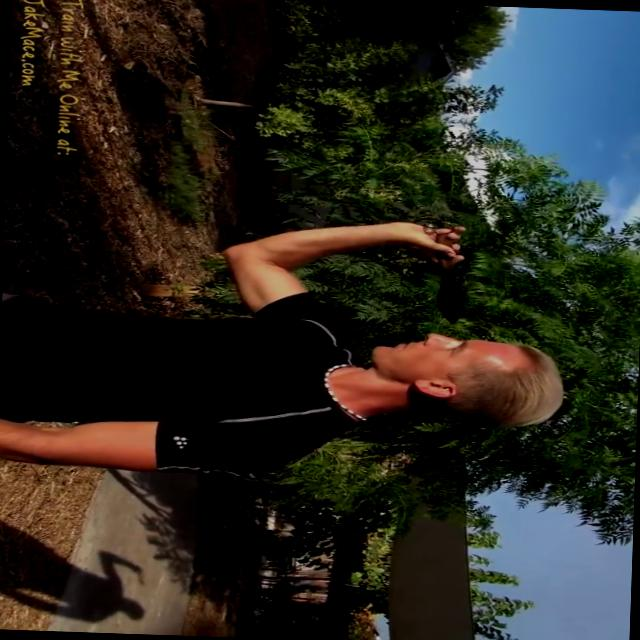knife: (408, 216, 484, 335)
